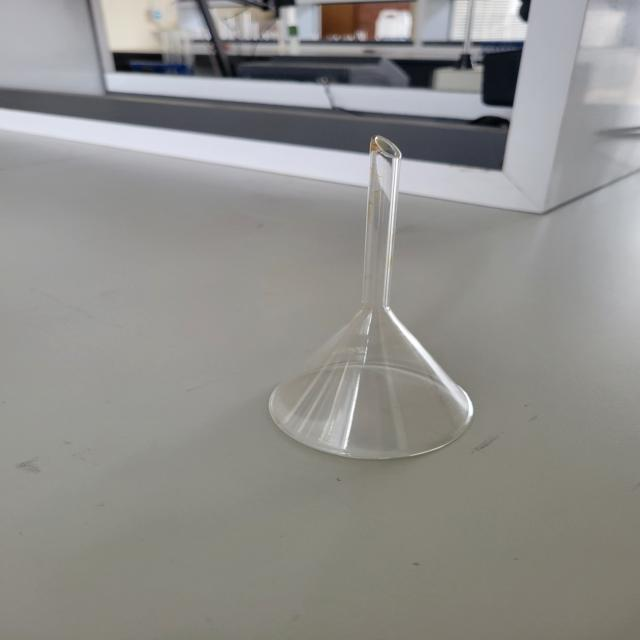Funnel: (231, 97, 509, 501)
